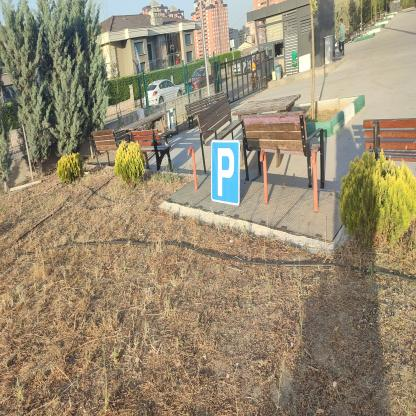Parking-Sign: (212, 140, 241, 209)
